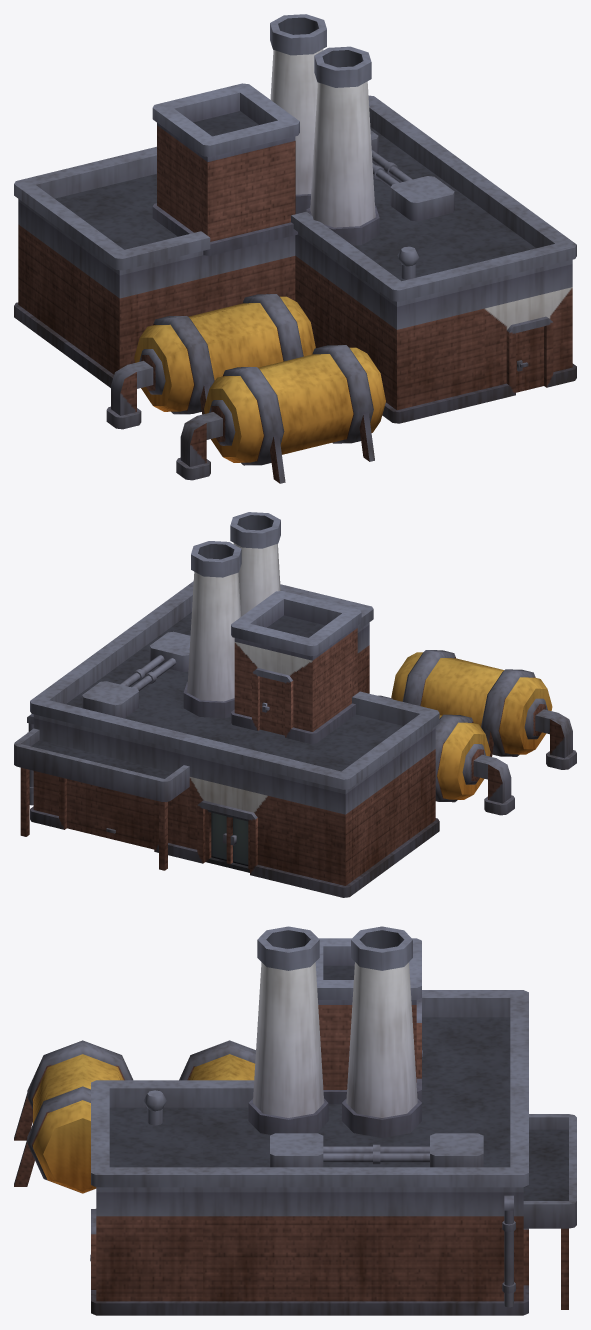
The model's file is building-c-brown.glb.
The picture shows the model from 3 angles, top to bottom: view 1: azimuth 30°, elevation 25°; view 2: azimuth 150°, elevation 25°; view 3: azimuth 270°, elevation 25°; orthographic projection. The views are drawn at different scales.
Parts seen in each view (by area): view 1: building-c; view 2: building-c; view 3: building-c.
Boxes of the visible parts, bbox=[...] form: building-c: bbox=[14, 14, 576, 483]; building-c: bbox=[14, 512, 576, 897]; building-c: bbox=[14, 926, 576, 1315].
Bounding box in the file's own units: 1.88 × 1.25 × 2.11.
Materials: 1 (1 with a texture image).
